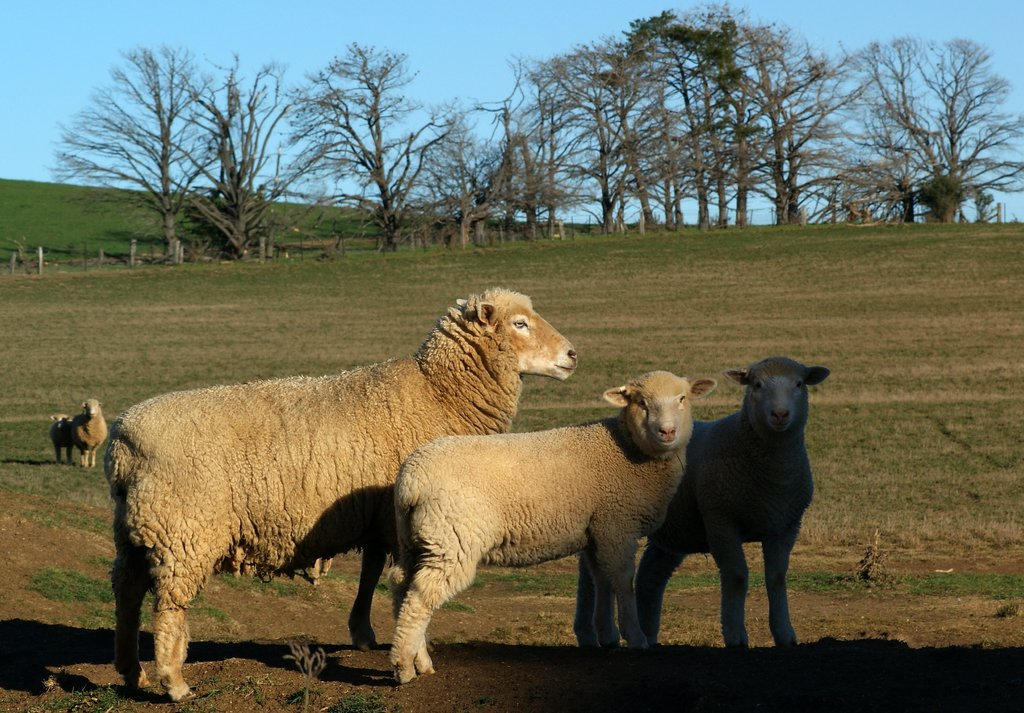sheep: (394, 370, 718, 681), (72, 396, 104, 463)
